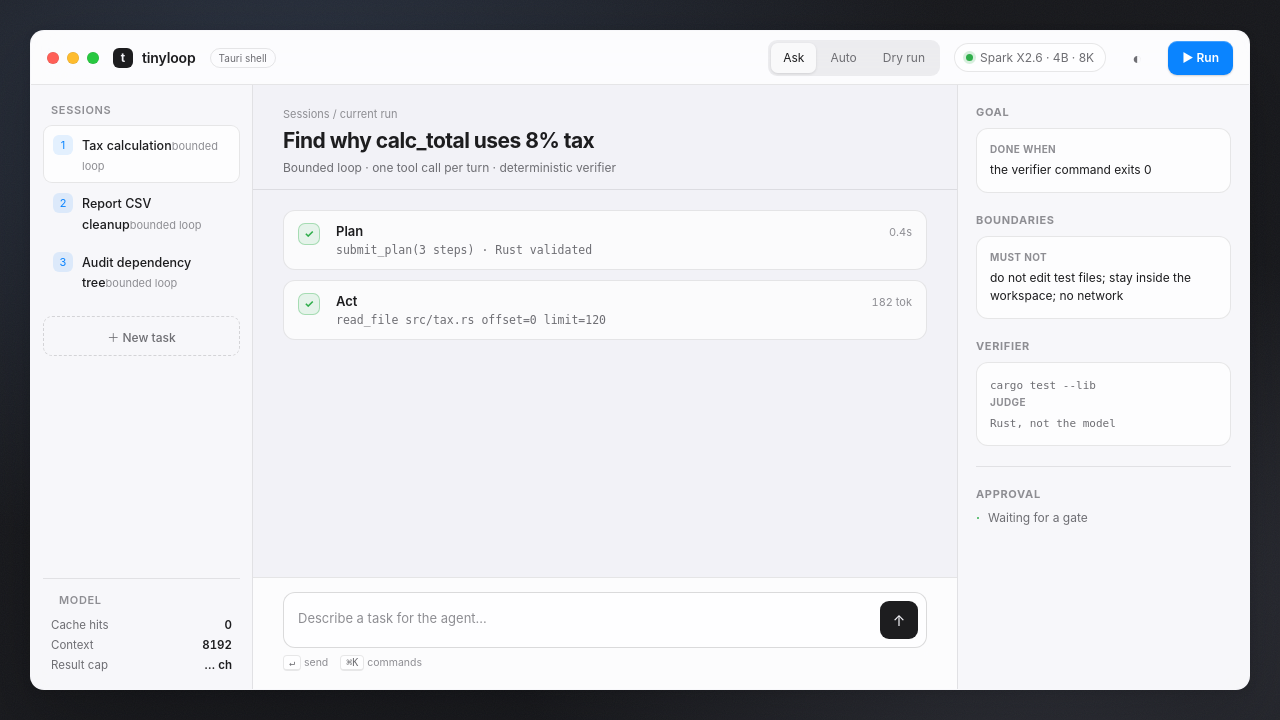
tinyloop desktop shell (browser preview) › switches run mode
Step 1. Click the button "Auto" → (844, 58), box [818,42,869,72]
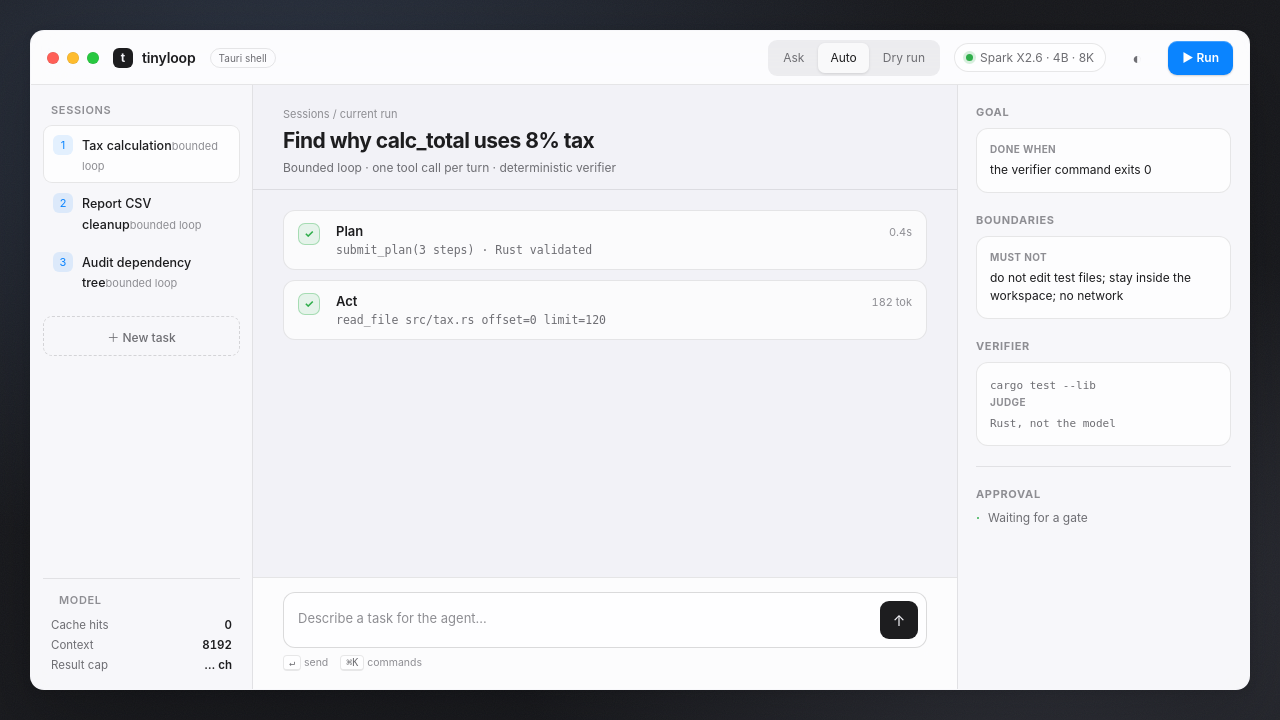
Check: the button "Auto" is pressed, box [818,42,869,72]
Step 2. Click the button "Dry run" → (904, 58), box [871,42,937,72]
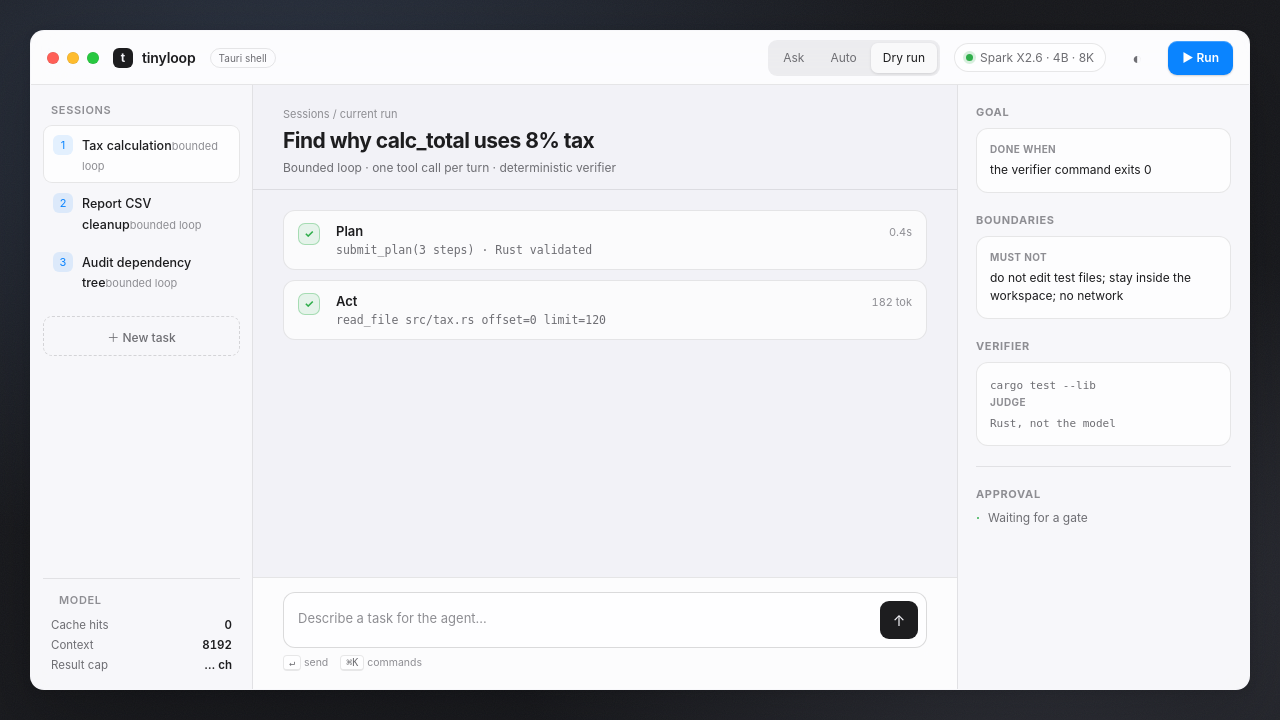
Check: the button "Dry run" is pressed, box [871,42,937,72]
